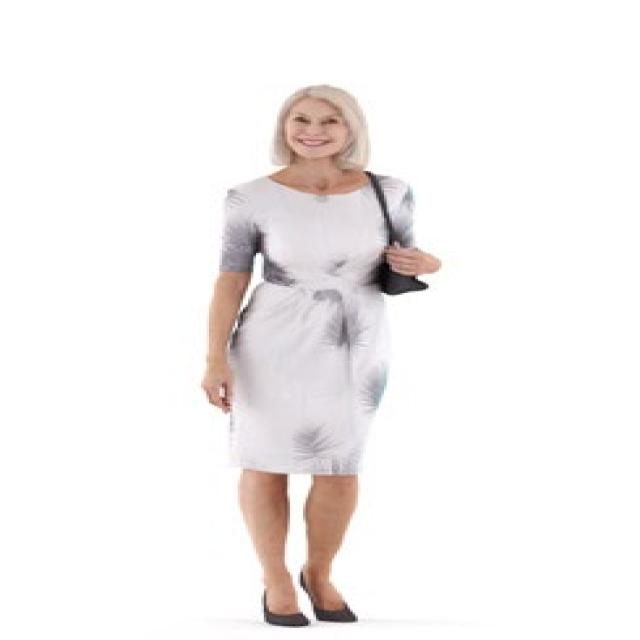standing: (198, 84, 448, 629)
